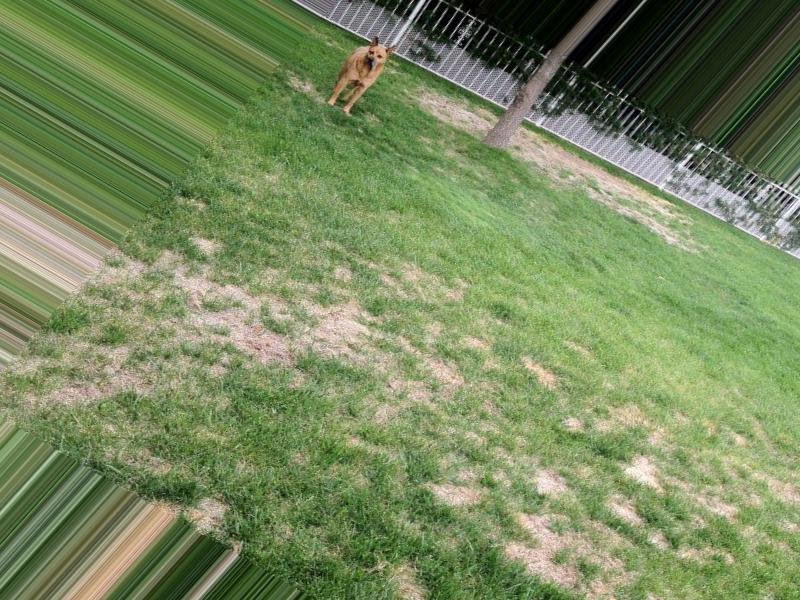patch: (313, 304, 380, 352), (228, 301, 272, 348), (531, 511, 554, 557), (634, 454, 665, 478), (581, 536, 604, 554)
